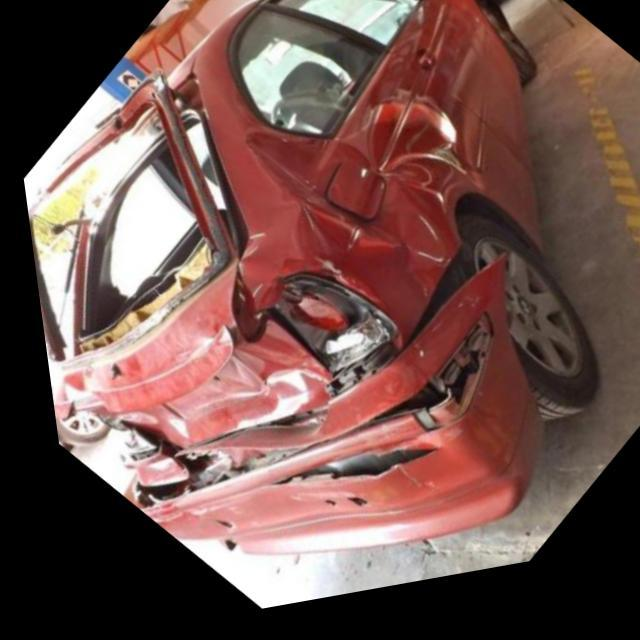crack: (43, 263, 514, 530)
dent: (239, 138, 445, 273), (360, 110, 458, 187)
dislocated part: (316, 169, 378, 236)
glass shatter: (23, 111, 206, 356)
lamp broken: (250, 284, 390, 398)
